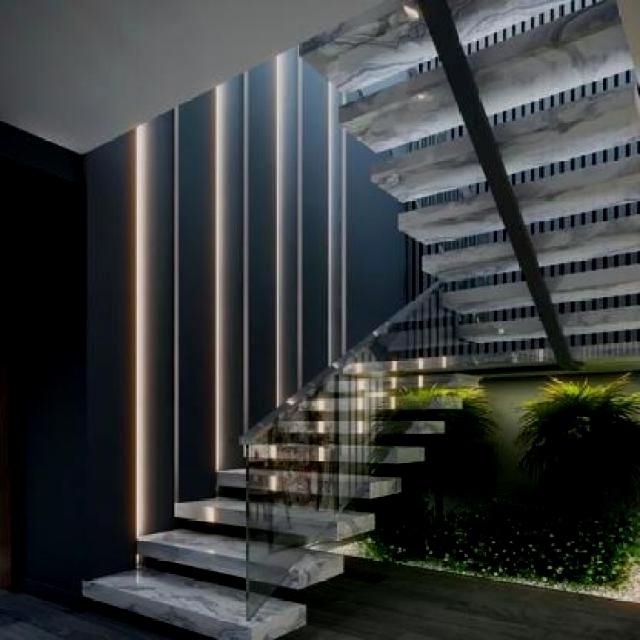stair: (94, 280, 477, 638)
